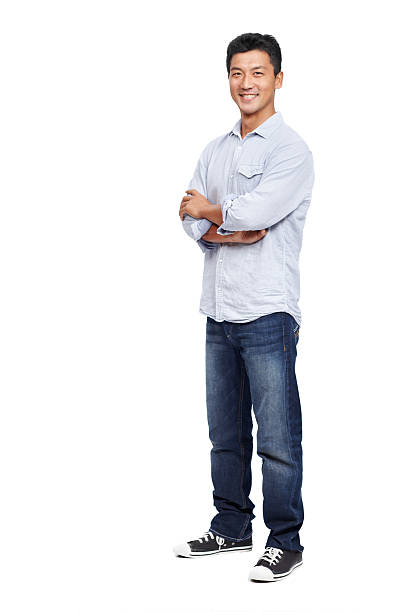Male: (171, 30, 329, 585)
